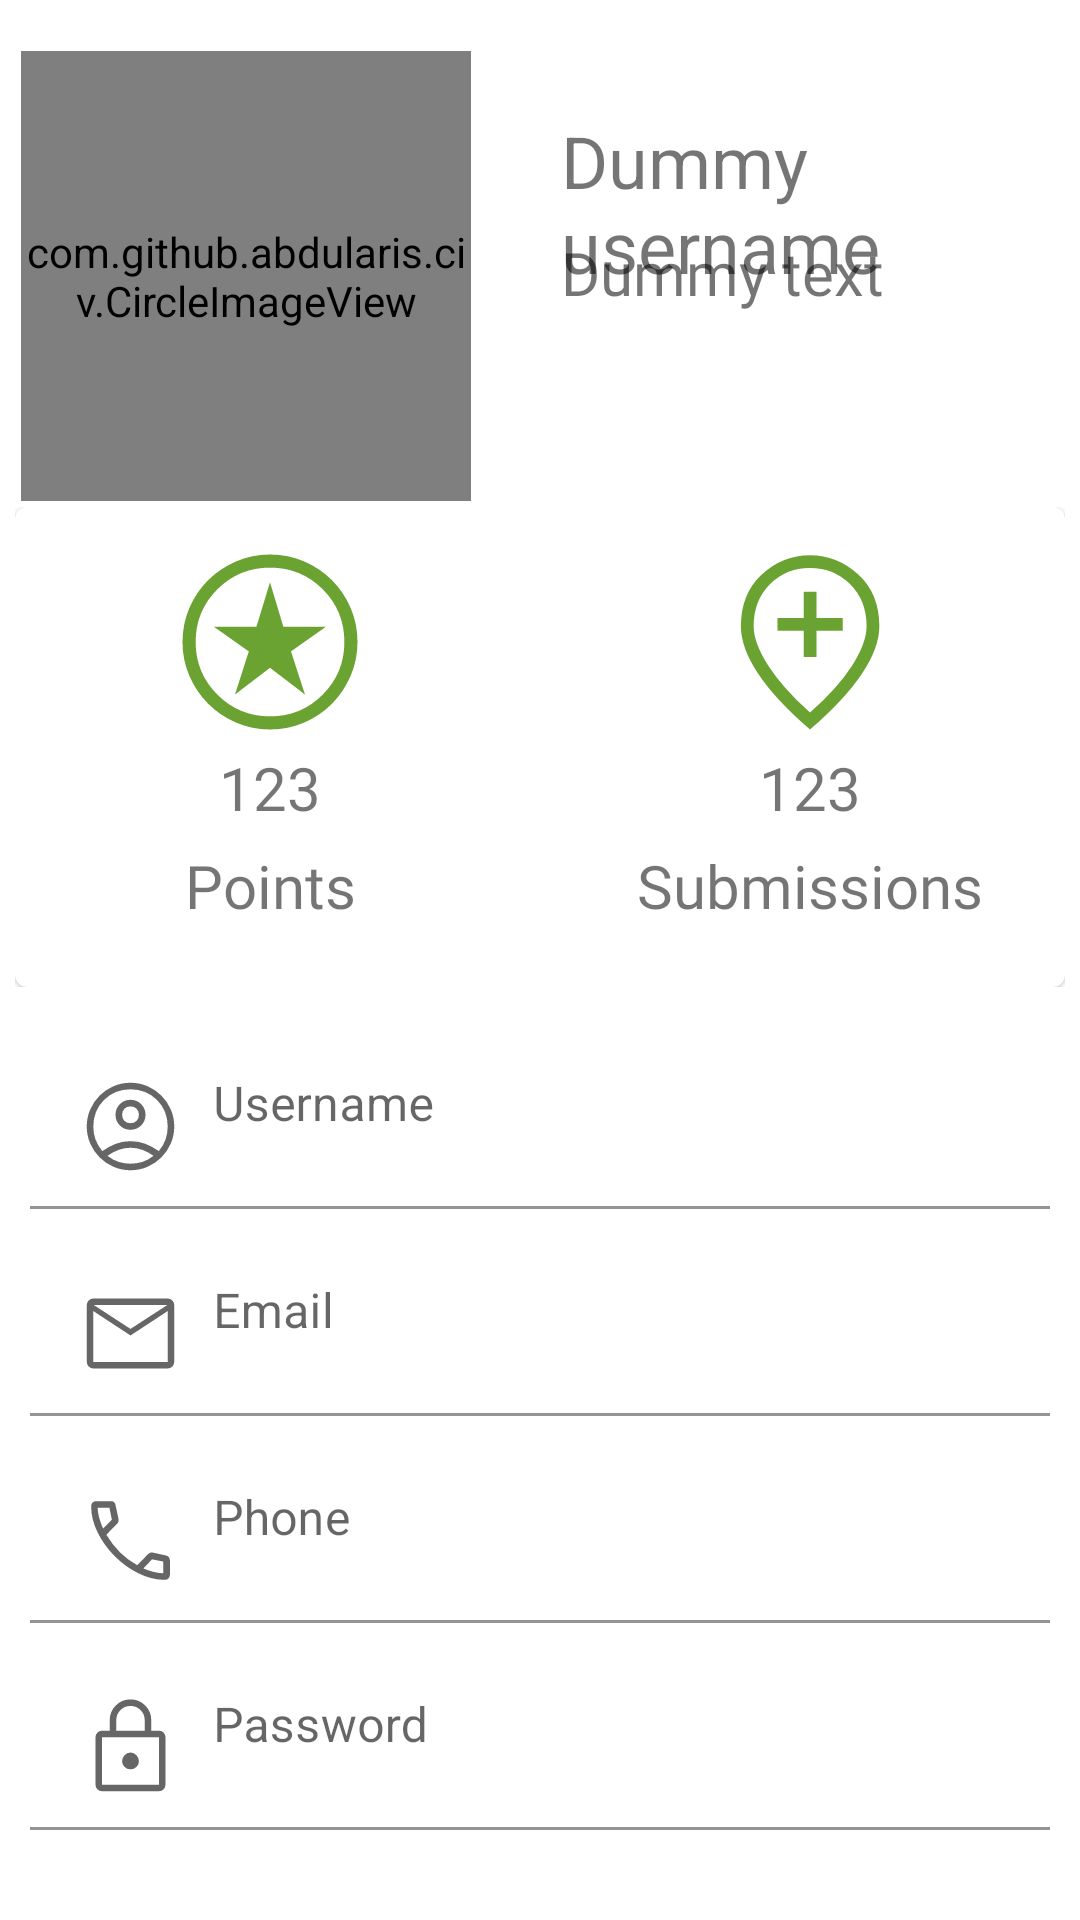

Where icons sit on this 1080px×1920px app screen, as (x1, y1, x2, y2):
profile stars: (182, 554, 358, 730)
